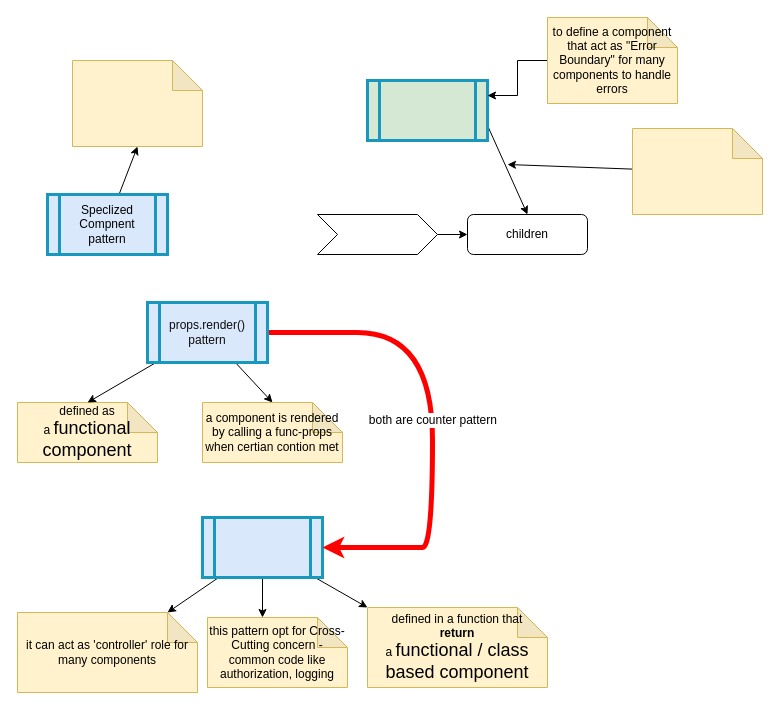
The diagram is 780 pixels wide and 710 high, and some of its shapes have lost their labels. The shapes that lost their labels are listed below. From the top down, each one's box as (x1, y1, x2, y2) in pixels, then its label:
(72, 60, 202, 146): this kind of component pattern used to sort props of another or parent component
(366, 78, 488, 142): Container Component pattern
(632, 128, 762, 214): used to manipulate child compoents and update their props that received
(316, 214, 438, 254): props
(200, 516, 324, 578): Higher Order Component ( HOC ) pattern
